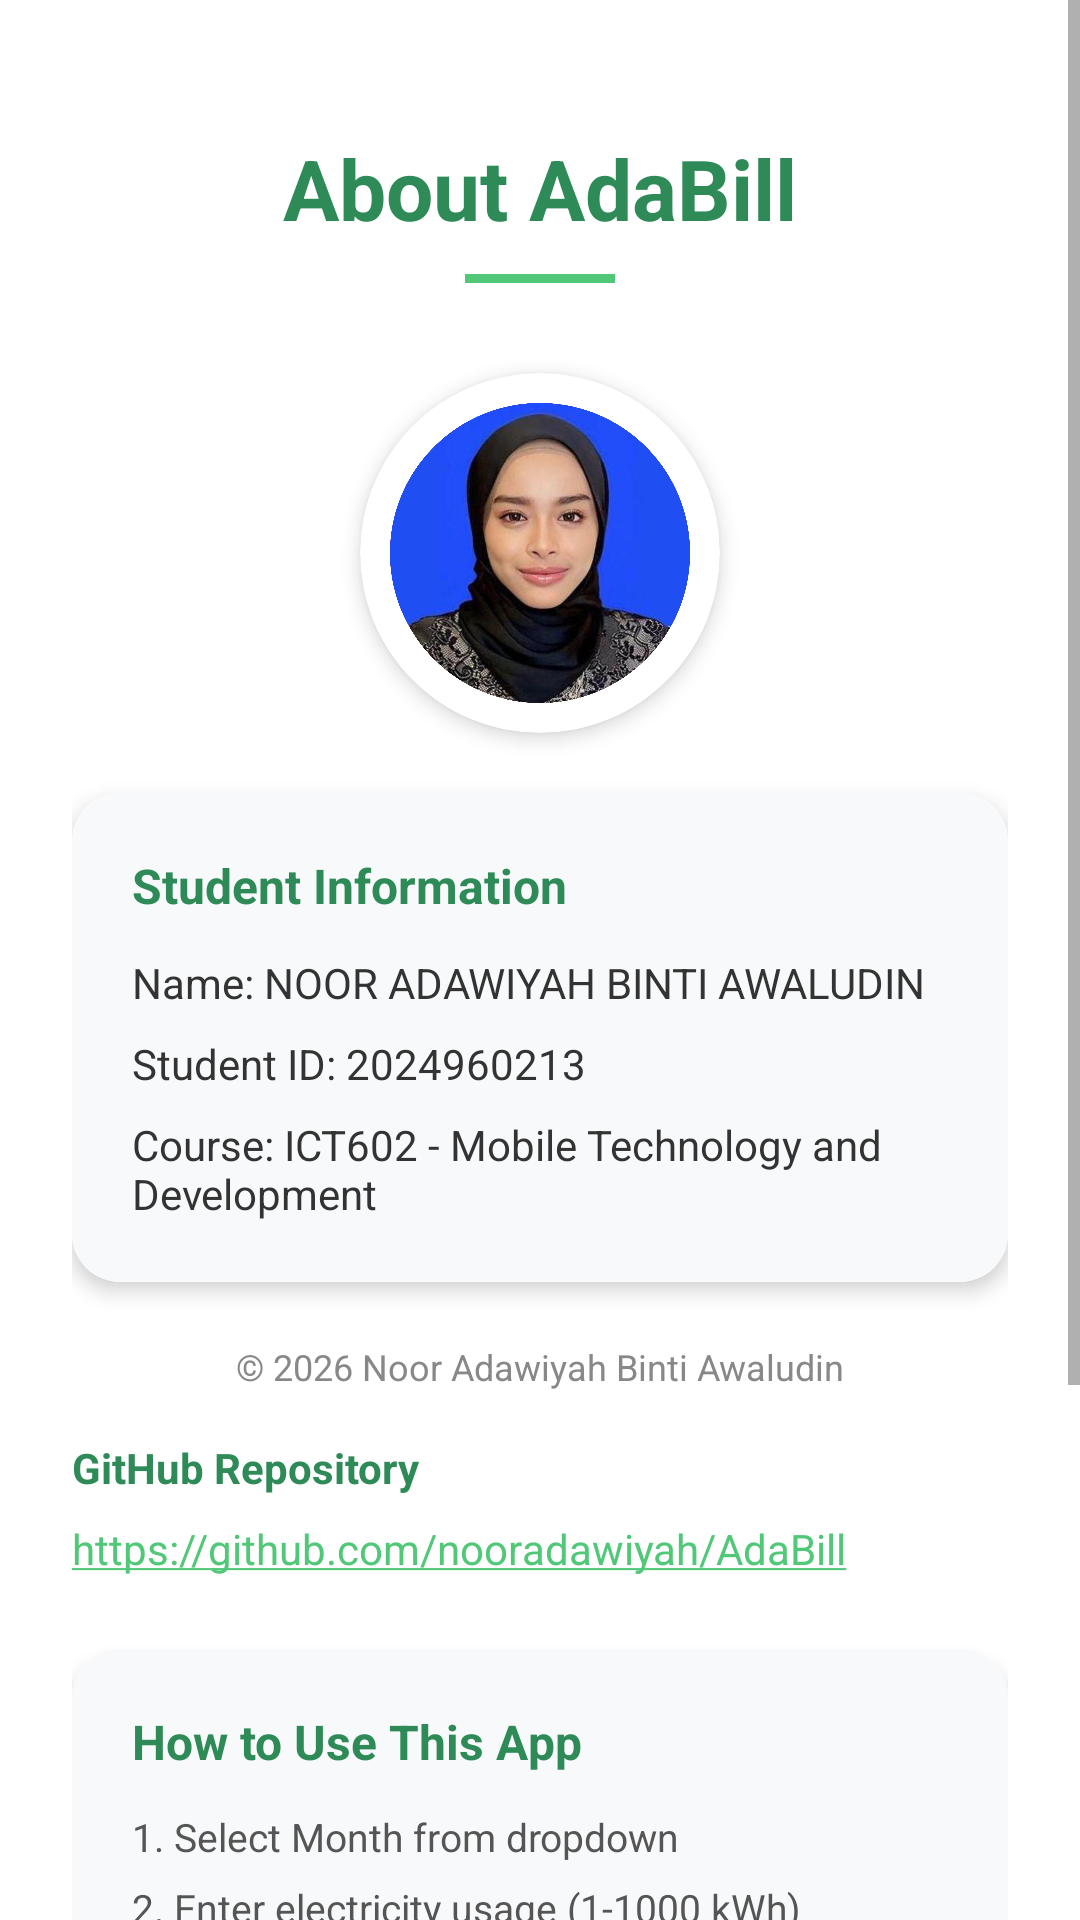

Icons on this 1080w x 1920h Android screen, each with its box as (x1, y1, x2, y2):
passportphoto: (361, 403, 719, 733)
